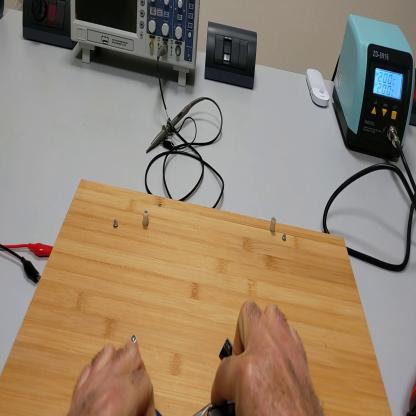electric screwdriver: (409, 379, 416, 414)
hand: (212, 302, 322, 415), (69, 338, 156, 414)
high voltage board: (207, 339, 237, 416)
oscilloscope: (74, 3, 202, 86)
oscilloscope probe tip: (148, 100, 198, 154)
pliers: (155, 403, 213, 416)
socket: (22, 2, 79, 52), (410, 63, 415, 127), (2, 3, 8, 20)
welder station: (335, 13, 415, 168)
working area: (2, 179, 393, 415)
